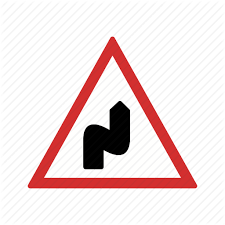Double_bend_right: (27, 36, 199, 188)
